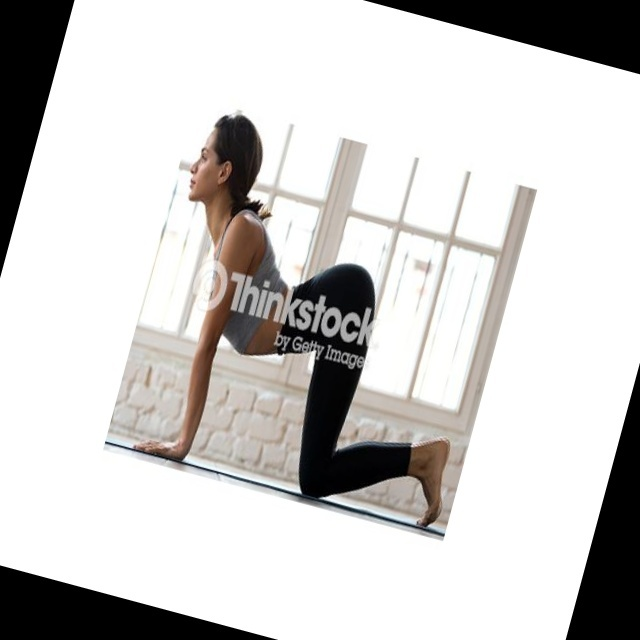Cow_Pose: (130, 115, 451, 532)
